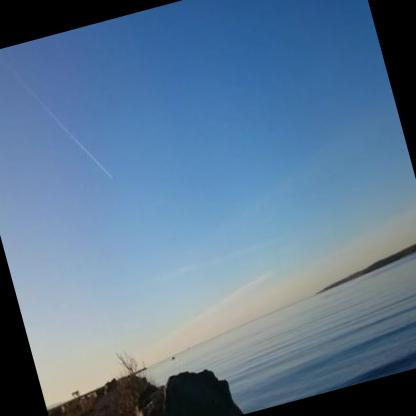plane: (106, 171, 120, 184)
